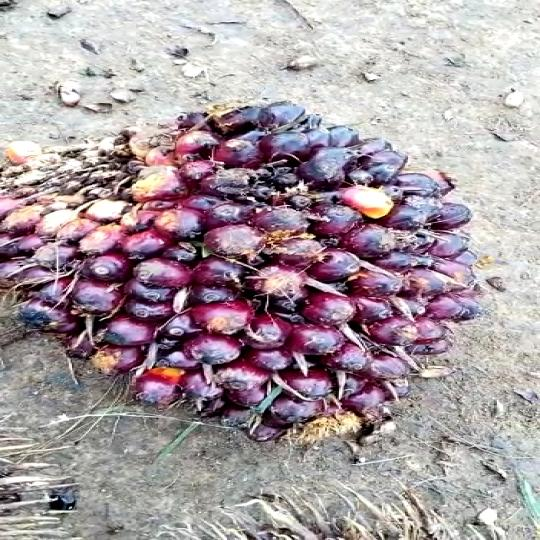mentah: (0, 100, 480, 454)
